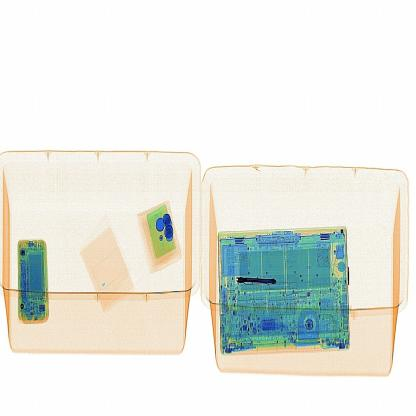knife: (230, 268, 286, 294)
